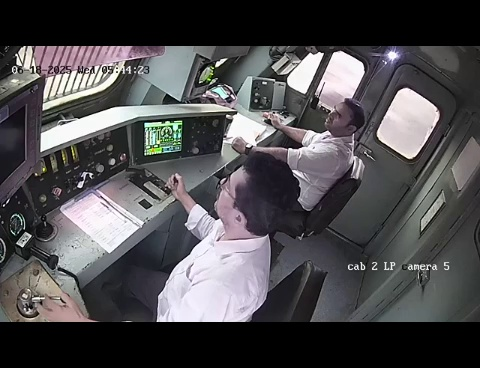brake_applied: (3, 256, 114, 323)
horn_inactive: (28, 211, 66, 245)
